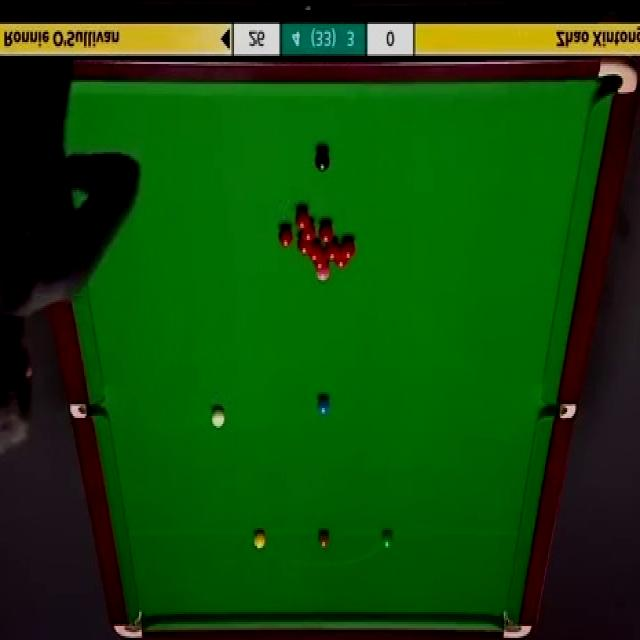pocket: (596, 57, 638, 97), (109, 606, 145, 640), (498, 608, 533, 640), (537, 405, 578, 420), (67, 405, 105, 420)
